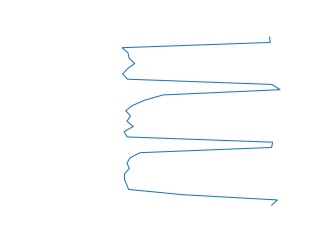majorRiverChannelBar: (119, 36, 283, 205)
